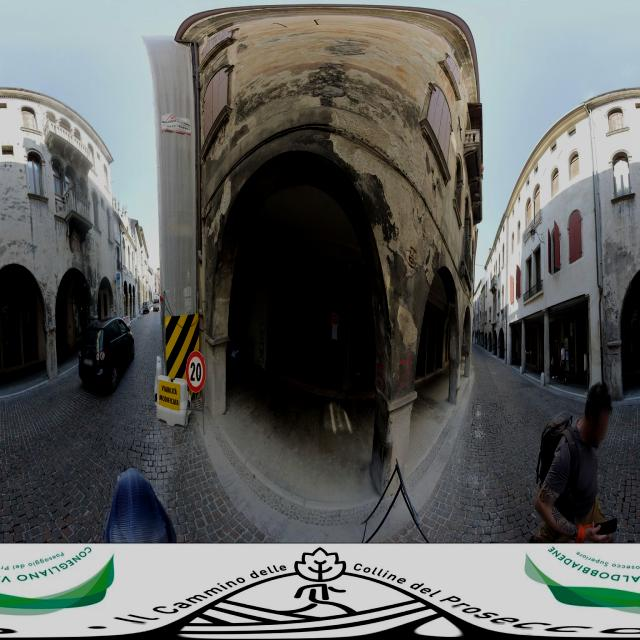car: (78, 315, 136, 394), (142, 302, 149, 314)
